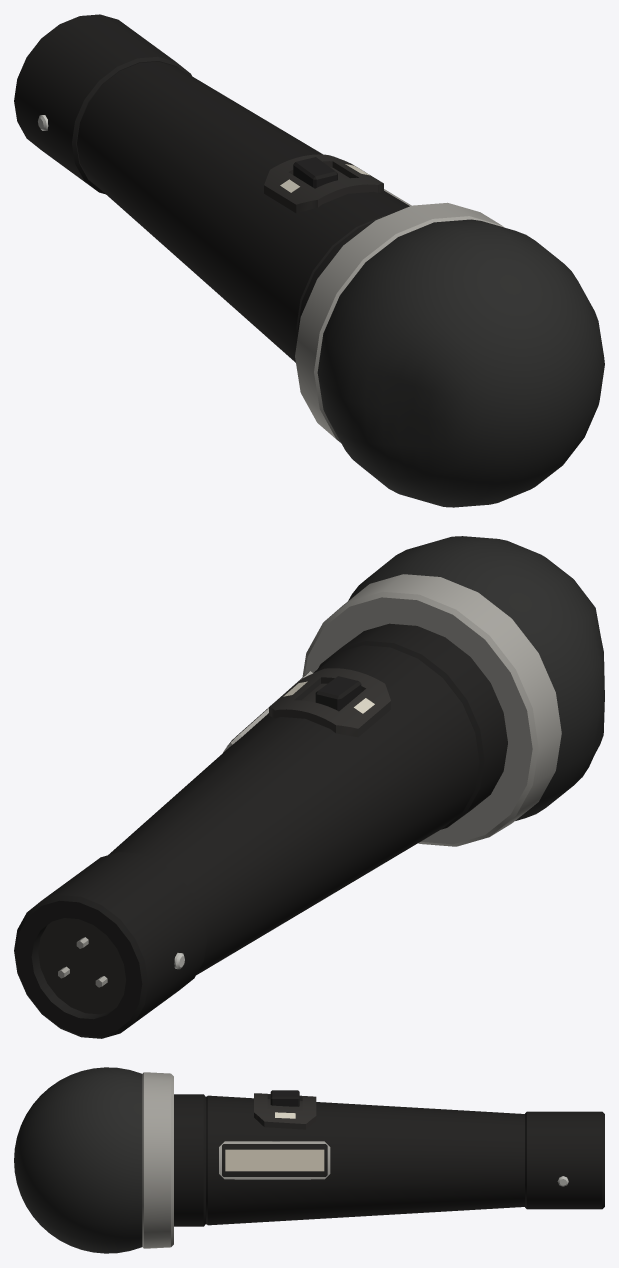
File: dynamic-mic-2e3243523637.glb
3 views of the same model, one above another, from view 1: azimuth 30°, elevation 25°; view 2: azimuth 150°, elevation 25°; view 3: azimuth 270°, elevation 25° (orthographic). The views are drawn at different scales.
Parts seen in each view (by area): view 1: grille-mesh, enamel-black, brushed, plastic-dark, rubber; view 2: enamel-black, brushed, grille-mesh, plastic-dark, rubber; view 3: enamel-black, grille-mesh, brushed, decal-print, plastic-dark, rubber.
Part boxes in pixels (box(x1,y1,x2,y2)): grille-mesh: box(317, 219, 604, 507); enamel-black: box(14, 14, 409, 362); brushed: box(295, 189, 504, 442); plastic-dark: box(264, 154, 383, 213); rubber: box(293, 157, 337, 188); enamel-black: box(14, 623, 507, 1038); brushed: box(58, 574, 561, 987); grille-mesh: box(348, 536, 604, 820); plastic-dark: box(38, 668, 390, 1014); rubber: box(315, 676, 361, 711); enamel-black: box(174, 1094, 604, 1226); grille-mesh: box(14, 1067, 142, 1253); brushed: box(142, 1072, 330, 1248); decal-print: box(225, 1149, 324, 1171); plastic-dark: box(254, 1093, 316, 1129); rubber: box(270, 1090, 299, 1106).
Bounding box in the file's own units: 0.054 × 0.054 × 0.17.
